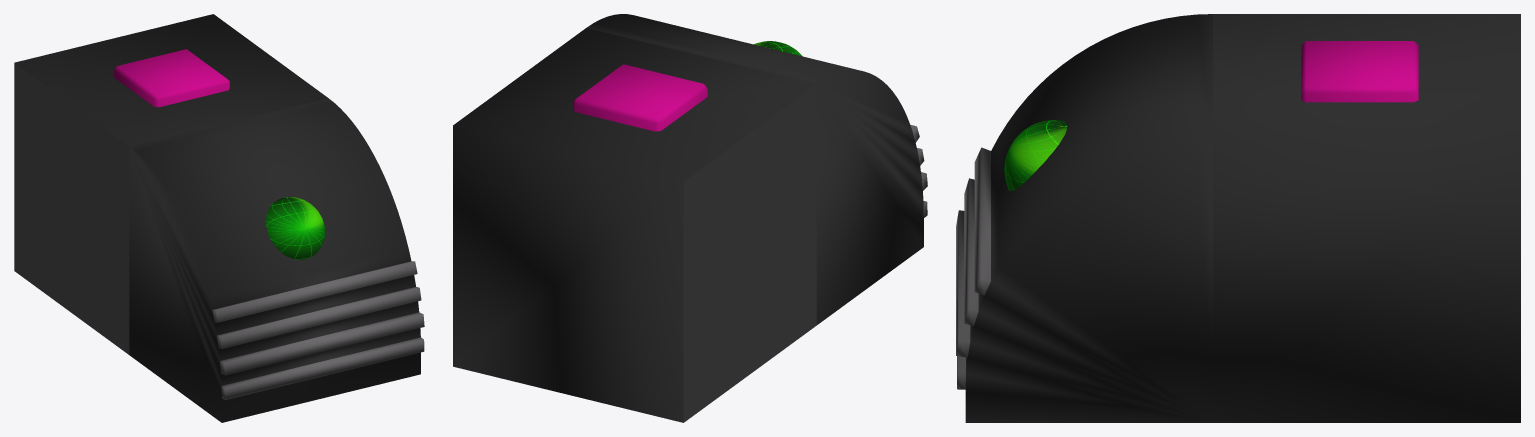
The model's file is Autopilot-Block_Small_LOD3.fbx.
3 renders of one model, left to right at view 1: azimuth 30°, elevation 25°; view 2: azimuth 150°, elevation 25°; view 3: azimuth 270°, elevation 25°, orthographic. The views are drawn at different scales.
Visible parts, largest first — view 1: Cube.003, Cube.002, Sphere.001; view 2: Cube.003, Cube.002; view 3: Cube.003, Cube.002, Sphere.001.
Boxes of the visible parts, left/top/right/bottom form: Cube.003: left=14, top=14, right=424, bottom=422; Cube.002: left=114, top=49, right=229, bottom=107; Sphere.001: left=266, top=197, right=325, bottom=259; Cube.003: left=453, top=14, right=927, bottom=422; Cube.002: left=573, top=64, right=707, bottom=131; Cube.003: left=956, top=14, right=1520, bottom=422; Cube.002: left=1301, top=41, right=1418, bottom=102; Sphere.001: left=1004, top=120, right=1067, bottom=191.
Size of the model in its own units: 0.5001 by 0.5253 by 0.9173.
